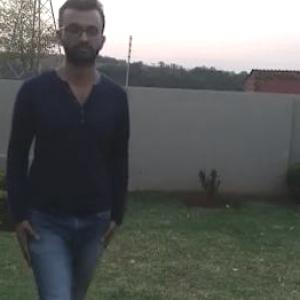follow: (18, 16, 117, 299)
